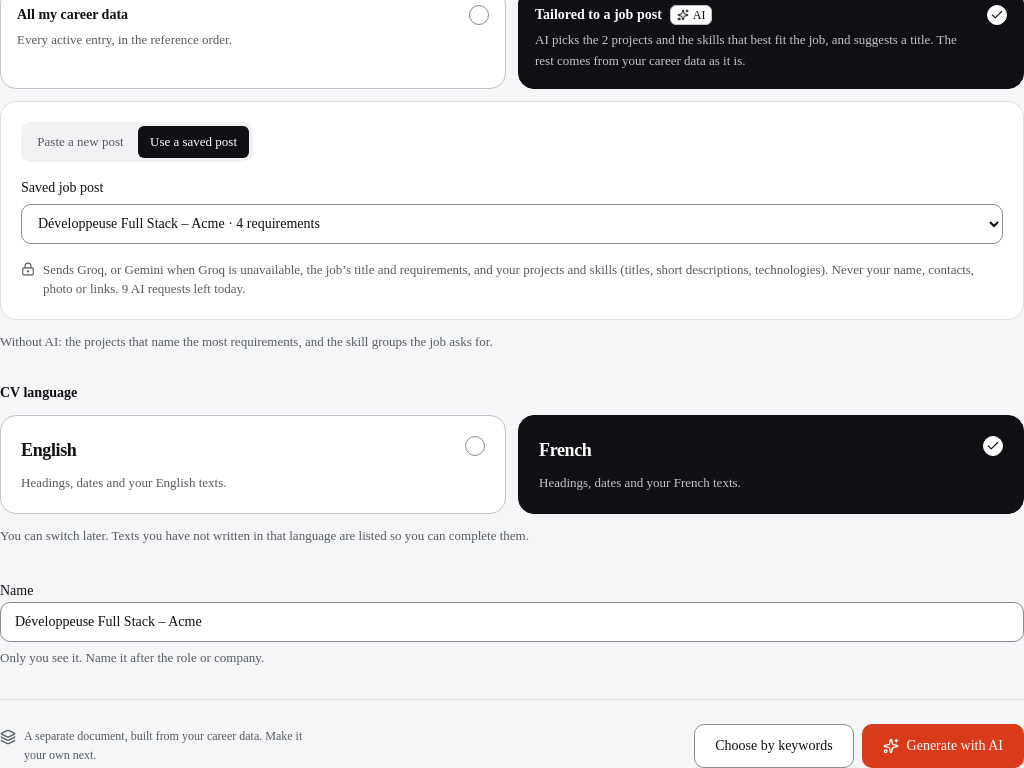
Test case: new CV form, tailored to a job post › explains why tailoring stopped: {"ok":false,"error":"ai_too_large","provider":"gemini"}
(page scrolled)
Click the button "Generate with AI" at (943, 746), box [862,724,1023,767]
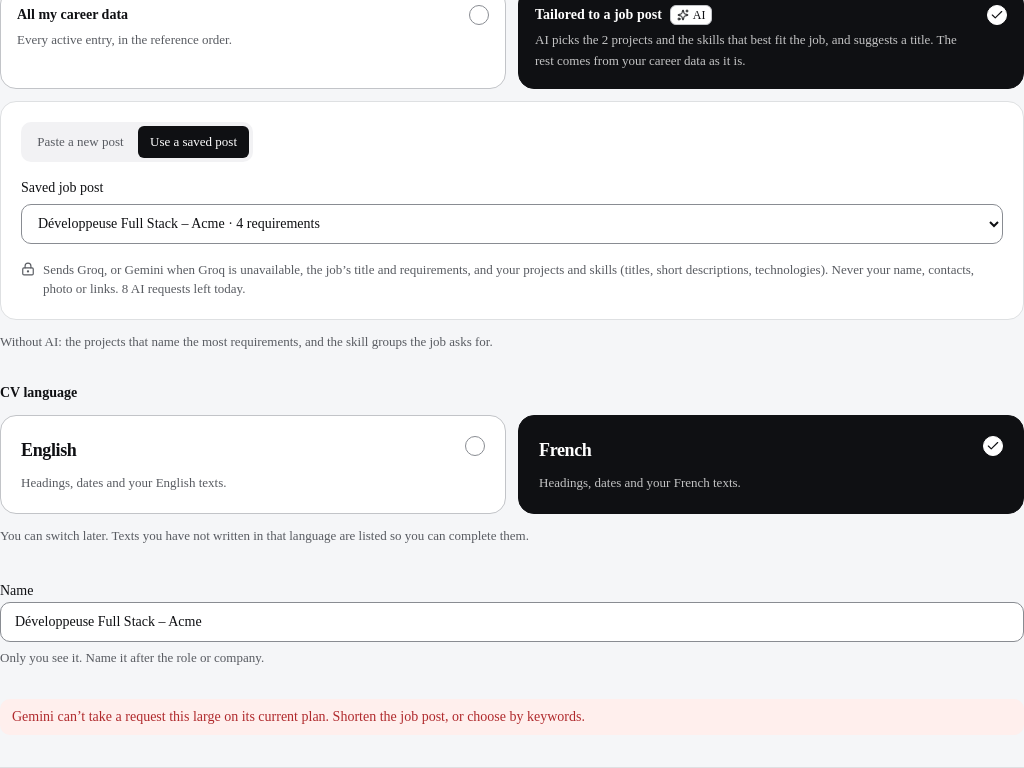
Expected: the message shows "Gemini can’t take a request this large on its current plan. Shorten the job post, or choose by keywords.", [12,709,585,724]
